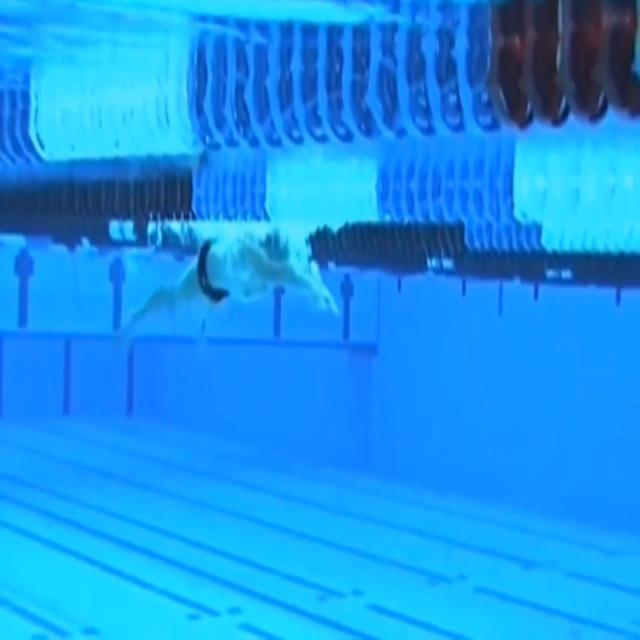Swimming: (130, 222, 339, 328)
